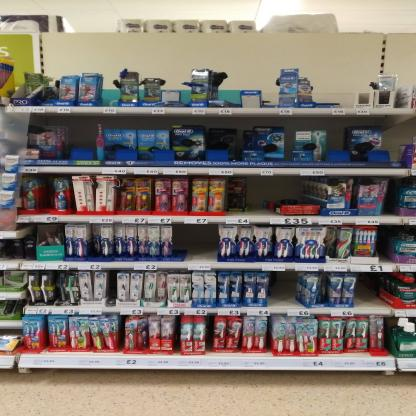empty_space: (180, 226, 218, 262), (270, 271, 303, 308), (73, 120, 98, 160), (357, 274, 386, 306), (325, 124, 350, 160), (246, 178, 271, 213), (335, 77, 356, 108), (383, 129, 402, 160), (166, 71, 180, 106), (285, 125, 293, 160)
